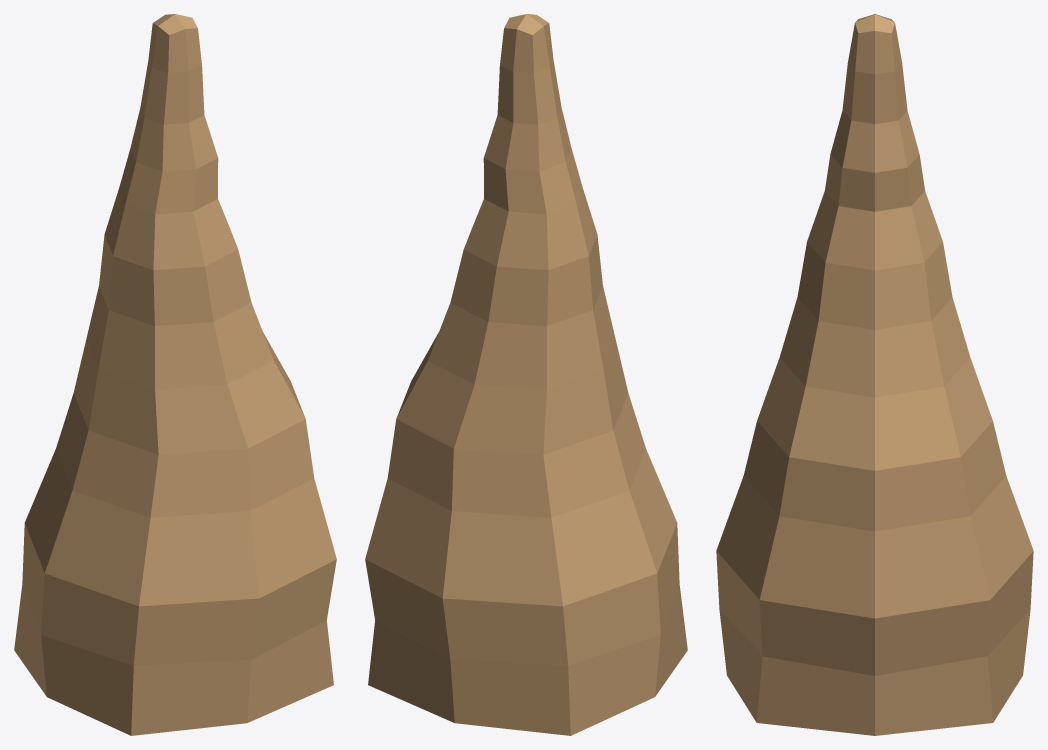
Rendered from stalagmite_big.fbx.
3 views of the same model, side by side, from view 1: azimuth 30°, elevation 25°; view 2: azimuth 150°, elevation 25°; view 3: azimuth 270°, elevation 25° (orthographic).
Visible parts, largest first — view 1: Cube; view 2: Cube; view 3: Cube.
Boxes of the visible parts, box(x1,y1,x2,y2) form: Cube: box(14, 14, 336, 735); Cube: box(365, 14, 687, 735); Cube: box(716, 14, 1033, 735).
Size of the model in its own units: 133 by 301 by 131.
